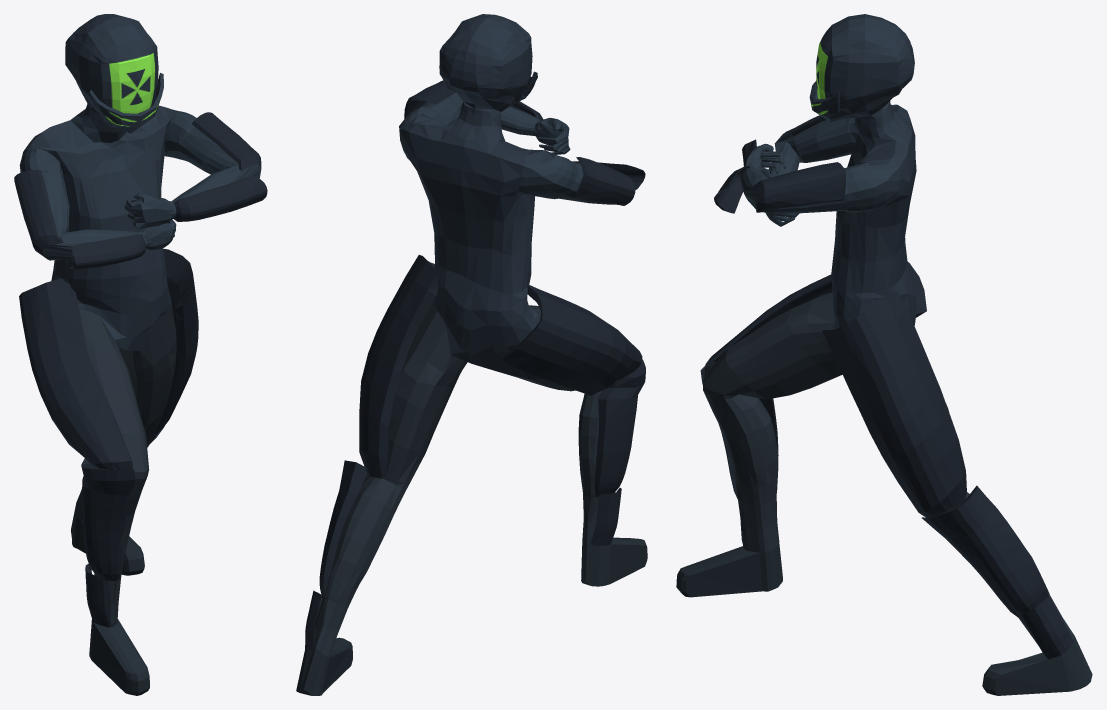
The model's file is Bastion_WR_000024.obj.
3 views of the same model, side by side, from view 1: azimuth 30°, elevation 25°; view 2: azimuth 150°, elevation 25°; view 3: azimuth 270°, elevation 25° (orthographic). The views are drawn at different scales.
Parts seen in each view (by area): view 1: Cube.002; view 2: Cube.002; view 3: Cube.002.
Part boxes in pixels (<box>): Cube.002: <box>14,14,267,695</box>; Cube.002: <box>296,14,647,695</box>; Cube.002: <box>676,14,1092,695</box>.
Size of the model in its own units: 1.31 by 3.59 by 2.14.
